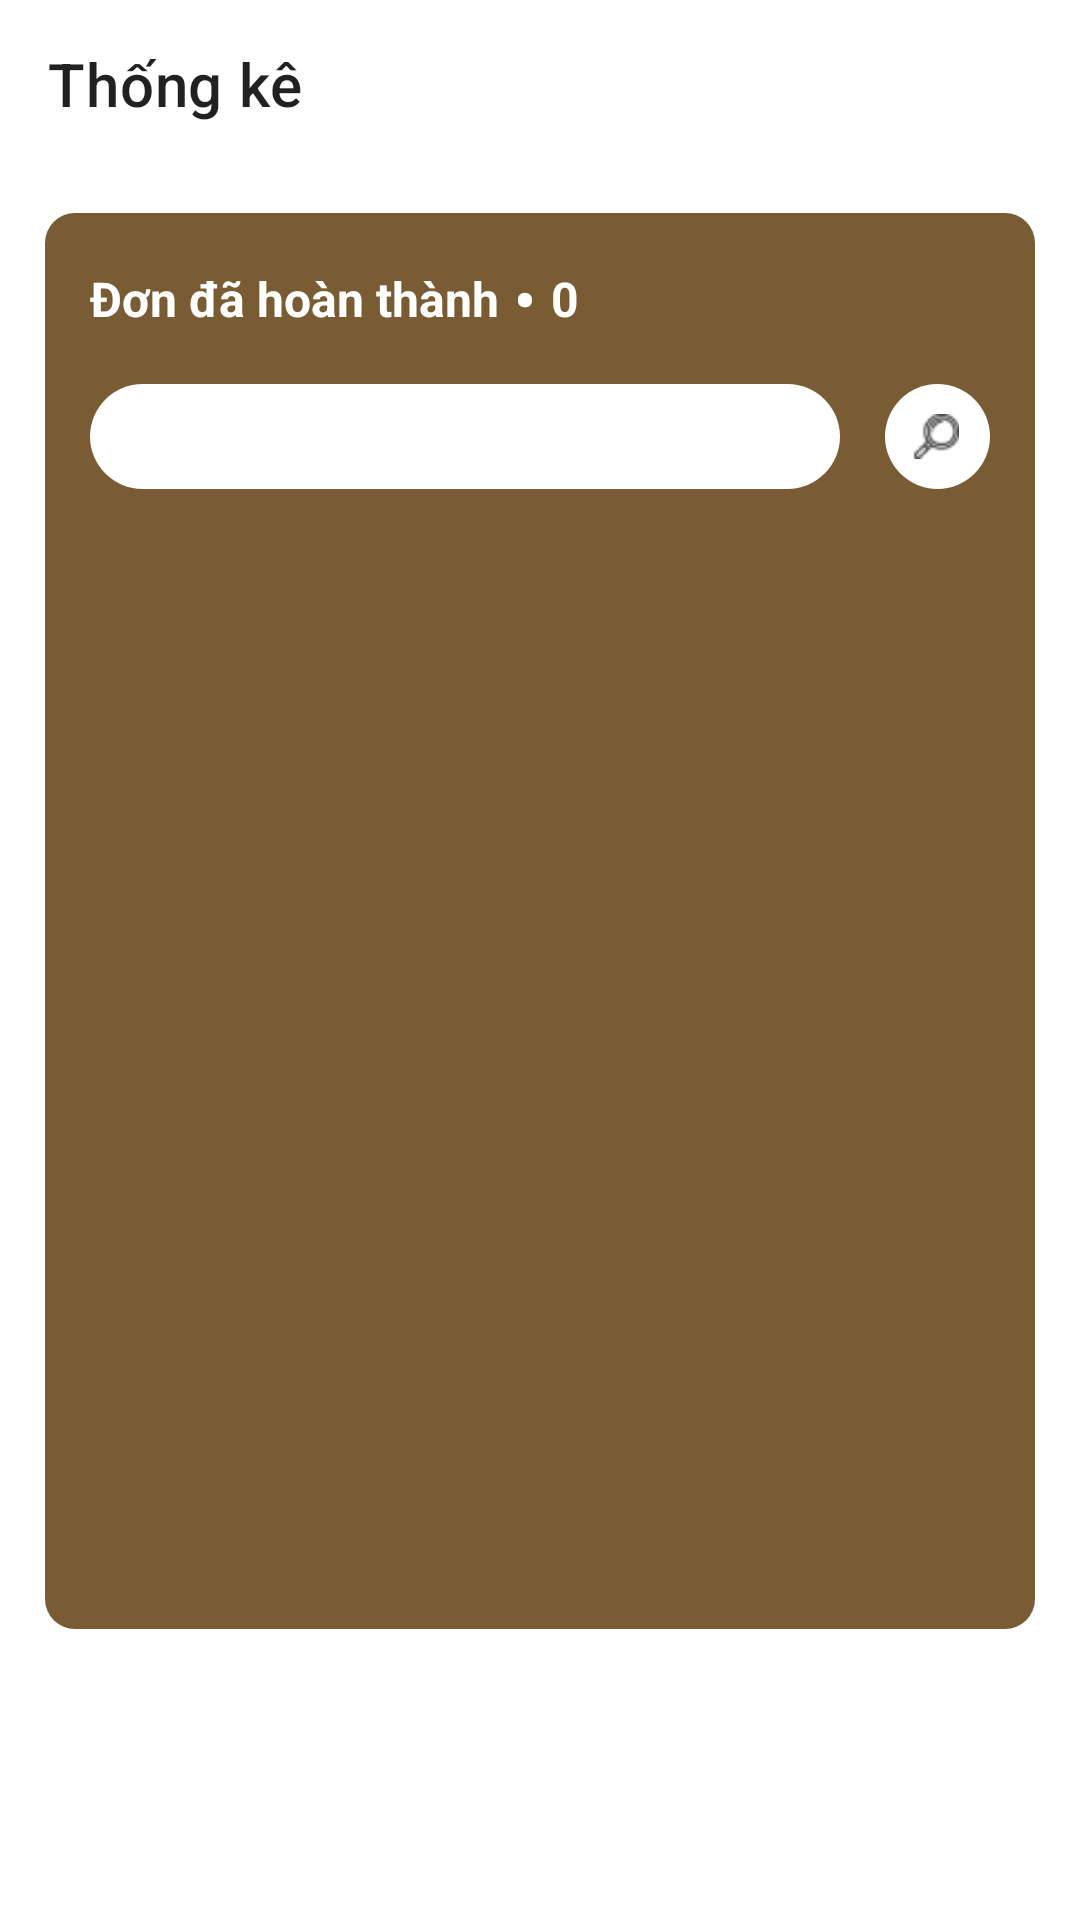

Where icons sit on this 1080 × 1920 app screen, as (x1, y1, x2, y2):
searchicon: (885, 384, 990, 489)
